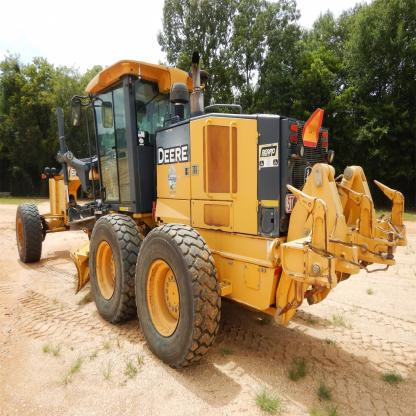bull_dozer/loader/grader: (13, 57, 411, 378)
